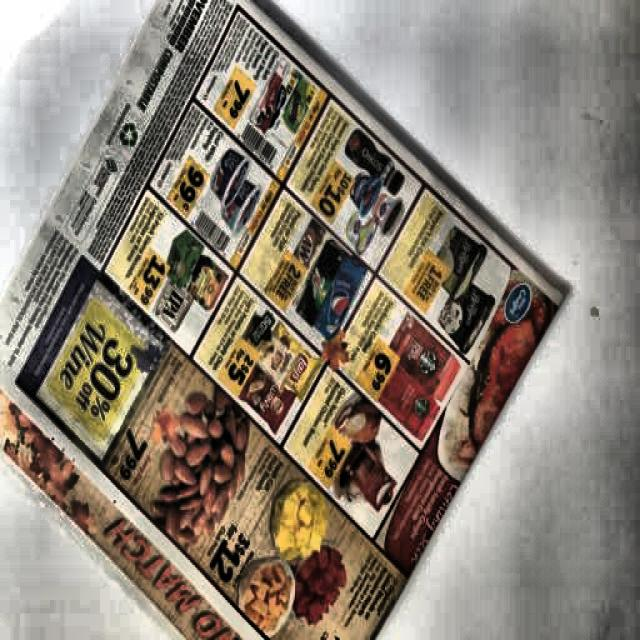paper: (29, 7, 534, 633)
